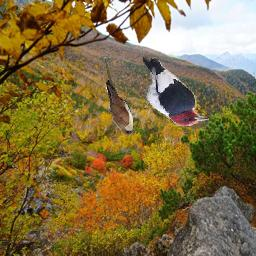Cuckoo: (105, 57, 136, 136)
Woodpecker: (143, 58, 209, 127)
